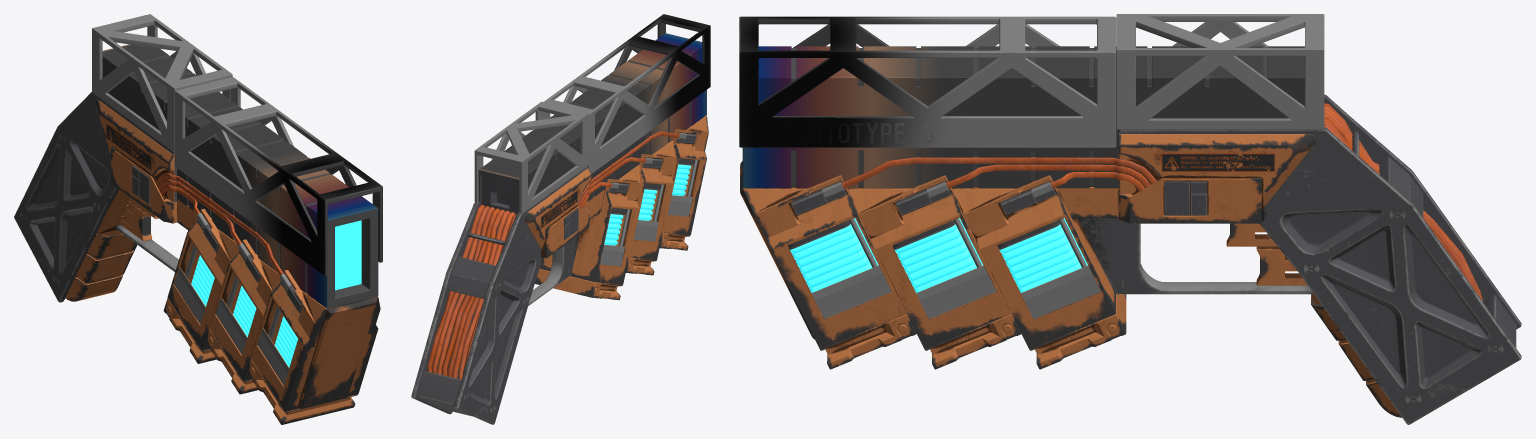
Rendered from Stasis_pistol.fbx.
The picture shows the model from 3 angles, left to right: view 1: azimuth 30°, elevation 25°; view 2: azimuth 150°, elevation 25°; view 3: azimuth 270°, elevation 25°; orthographic projection. The views are drawn at different scales.
Parts seen in each view (by area): view 1: Pistol, Magazine, Triggers; view 2: Pistol, Magazine; view 3: Pistol, Magazine, Triggers.
Part boxes in pixels (x1,y1,x2,y2): Pistol: (14, 14, 382, 411); Magazine: (163, 255, 357, 424); Triggers: (118, 198, 158, 241); Pistol: (411, 14, 710, 424); Magazine: (535, 162, 692, 300); Pistol: (739, 14, 1521, 424); Magazine: (789, 218, 1126, 369); Triggers: (1226, 223, 1307, 285).
Size of the model in its own units: 4.38 by 17.07 by 32.2.
